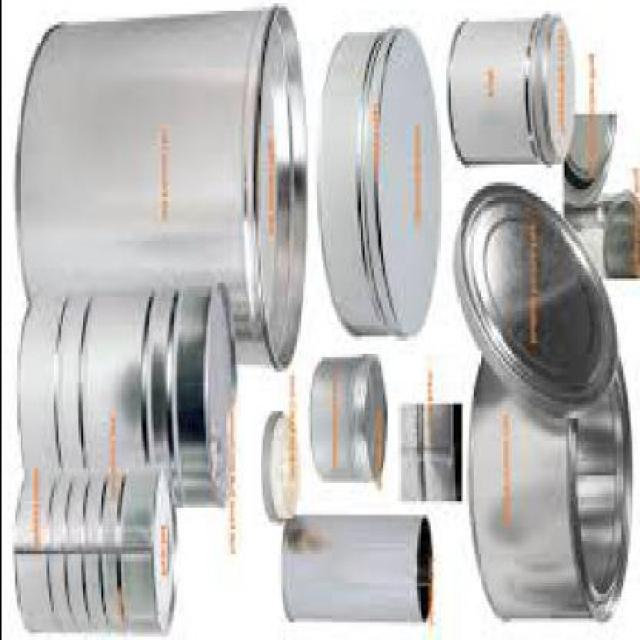METAL: (22, 11, 308, 372), (470, 343, 633, 626), (18, 297, 234, 508), (318, 32, 442, 340), (458, 185, 618, 422), (14, 478, 174, 637), (450, 20, 576, 172), (281, 519, 434, 626), (308, 361, 388, 487), (563, 192, 639, 283), (566, 118, 614, 214), (263, 414, 300, 526)
